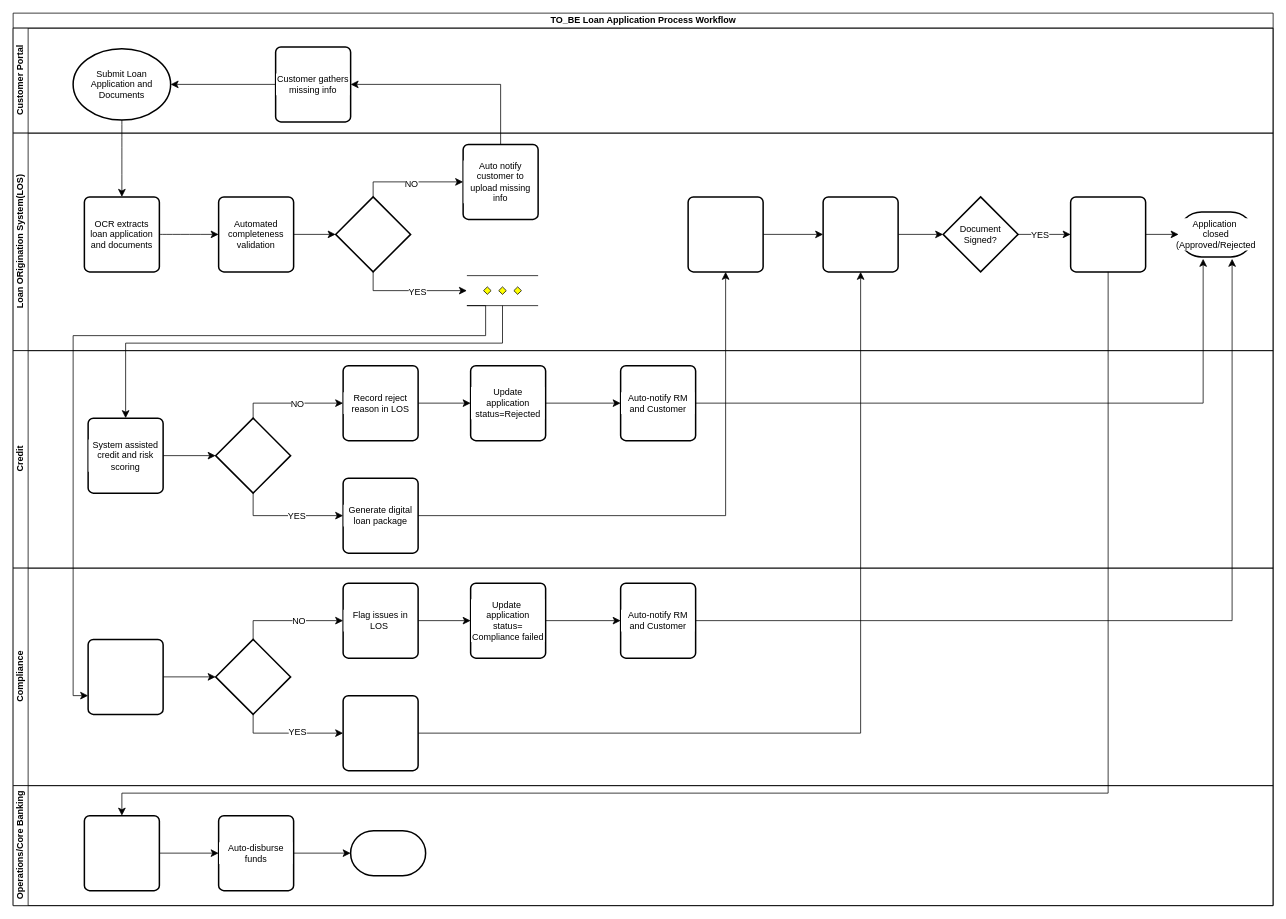
Some shapes in this 1286 by 919 pixel diagram are drawn without their labels. The shapes that lost their labels are listed below. From the top down, each one's centre as x and y in pixels, then its label:
At (x=372, y=234): "Application Complete".
At (x=725, y=234): "Generate Loan Documents".
At (x=860, y=234): "Send for Digital Signature (DocuSign)".
At (x=1108, y=234): "Update Application status=Approved".
At (x=502, y=290): "Auto route to Credit and Compliance queues".
At (x=252, y=455): "Credit Approved?".
At (x=125, y=676): "Automated regulatory and policy validation".
At (x=252, y=676): "Compliance cleared?".
At (x=380, y=732): "Send for E-Signature".
At (x=121, y=852): "Auto open loan in Core Banking System(CBS)".
At (x=388, y=853): "Loan Completed".
